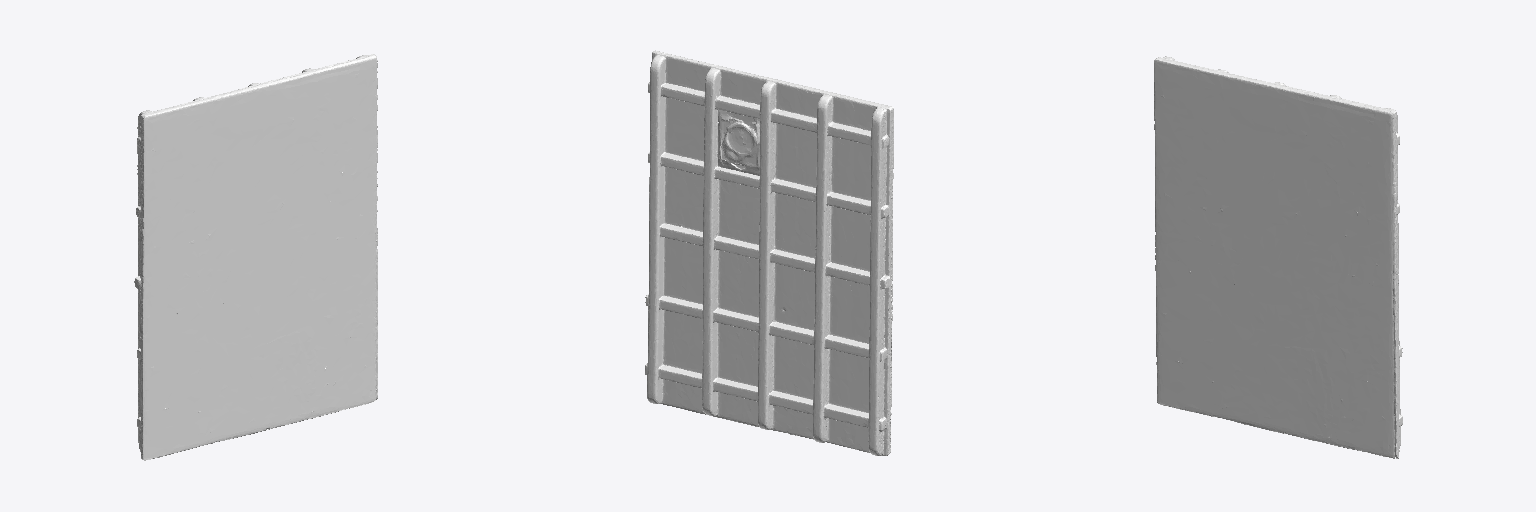
File: Mia_001681_Ghirlandaio_64k.obj
3 renders of one model, left to right at view 1: azimuth 30°, elevation 25°; view 2: azimuth 150°, elevation 25°; view 3: azimuth 330°, elevation 25°, orthographic.
Bounding box in the file's own units: 0.3202 × 0.4464 × 0.0335.